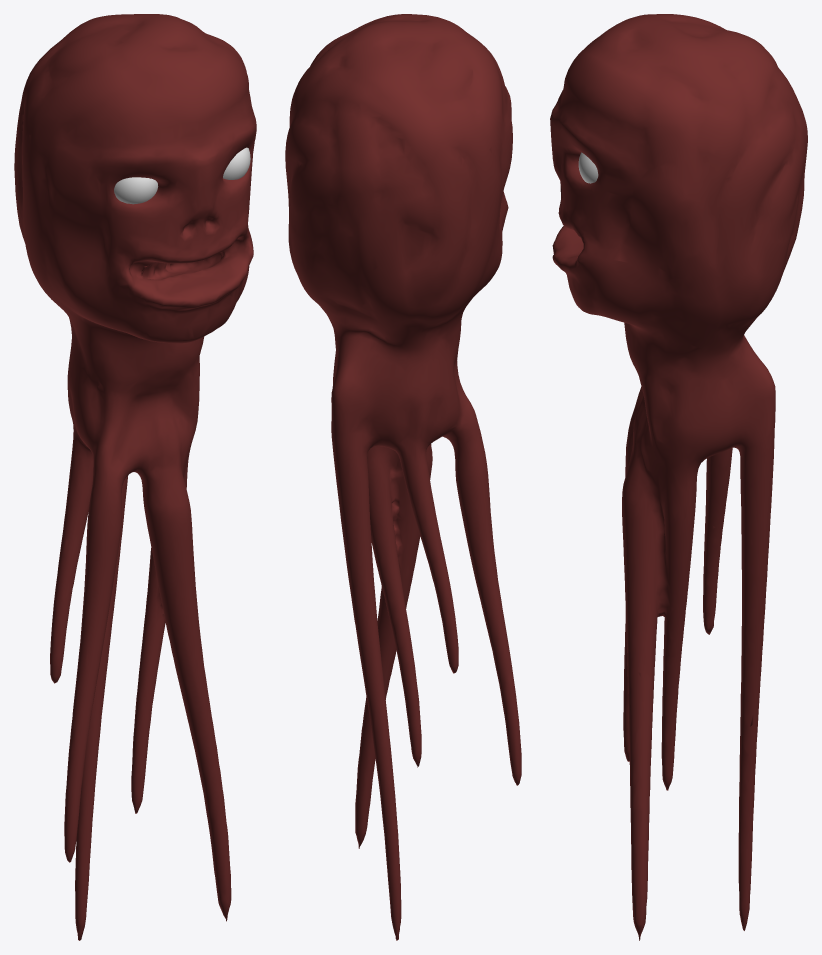
The model's file is Ghoul.fbx.
3 views of the same model, side by side, from view 1: azimuth 30°, elevation 25°; view 2: azimuth 150°, elevation 25°; view 3: azimuth 270°, elevation 25° (orthographic). The views are drawn at different scales.
Parts seen in each view (by area): view 1: Cube; view 2: Cube; view 3: Cube.
Part boxes in pixels (x1=…): Cube: x1=14, y1=14, x2=256, y2=940; Cube: x1=285, y1=14, x2=521, y2=940; Cube: x1=550, y1=14, x2=807, y2=940.
Size of the model in its own units: 165 by 683 by 174.
